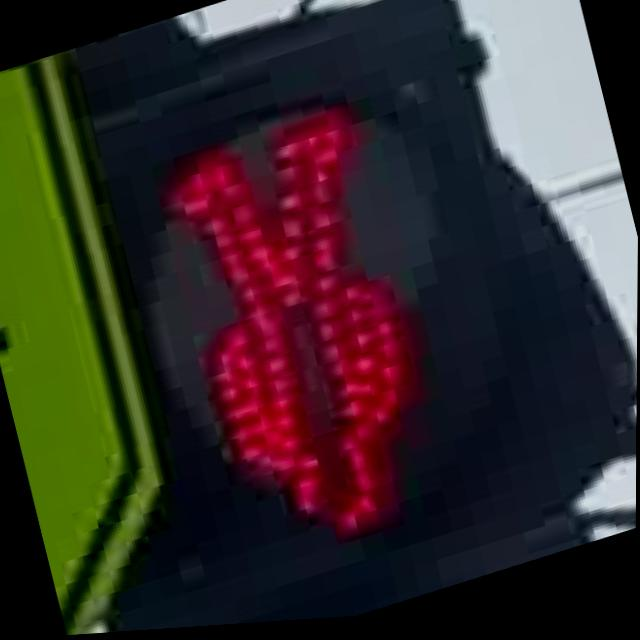red_light: (140, 86, 488, 603)
